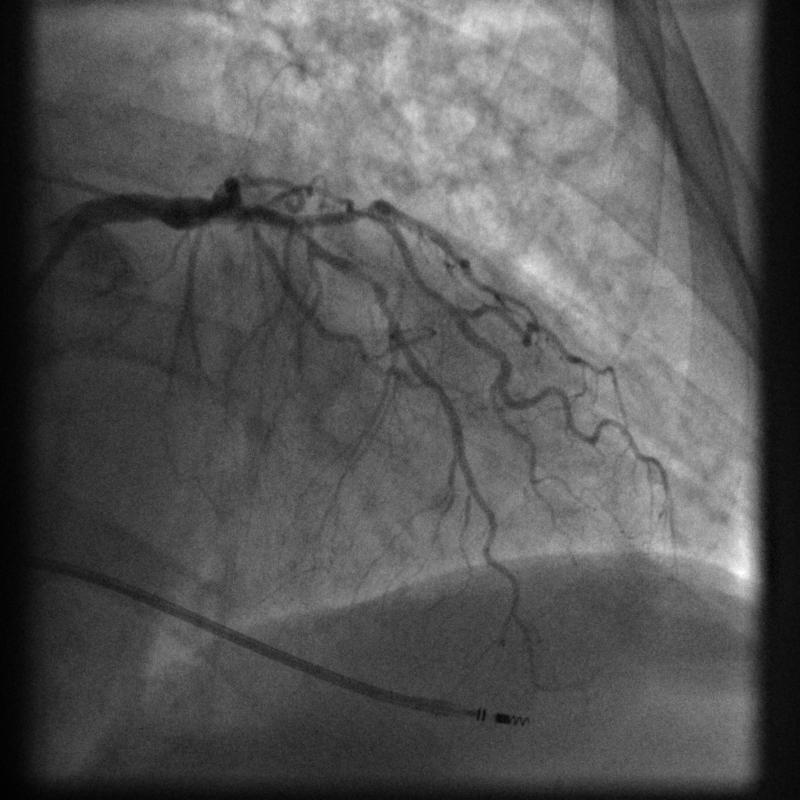Stenosis: (353, 261, 391, 313)
